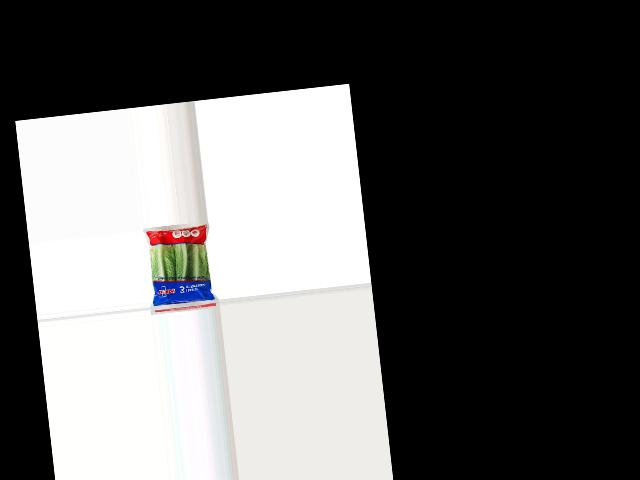lettuce: (141, 221, 215, 310)
